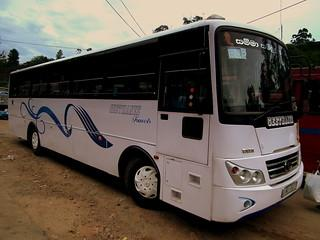bus: (5, 18, 305, 225)
